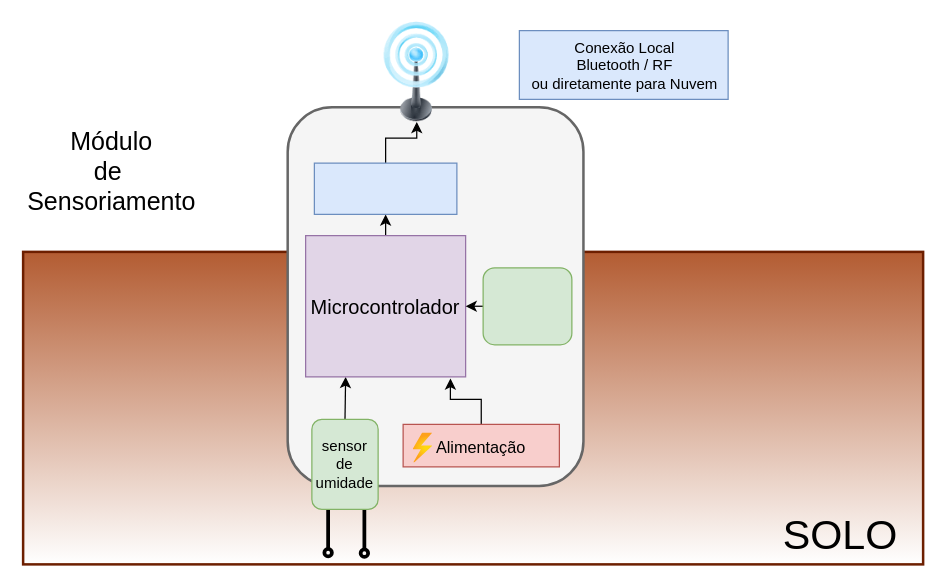
Image size: 945x586. Some labels were removed from this diagram. The centre of each missing label's shape, as x and y in pixels:
Módulo de comunicação: the point at 385,188
sensor de temperatura: the point at 527,306
